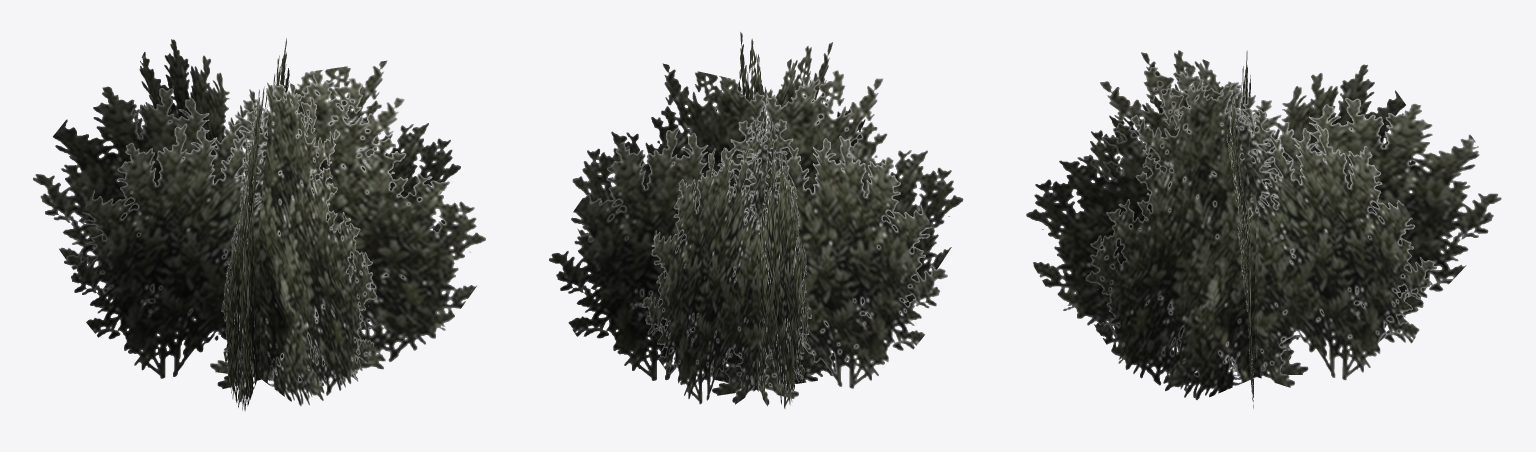
Rendered from SM_Generic_Plant_05.fbx.
3 renders of one model, left to right at view 1: azimuth 30°, elevation 25°; view 2: azimuth 150°, elevation 25°; view 3: azimuth 270°, elevation 25°, orthographic. The views are drawn at different scales.
Visible parts, largest first — view 1: SM_Generic_Plant_05_LOD0; view 2: SM_Generic_Plant_05_LOD0; view 3: SM_Generic_Plant_05_LOD0.
Boxes of the visible parts, <box> form: SM_Generic_Plant_05_LOD0: <box>33,38,485,411</box>; SM_Generic_Plant_05_LOD0: <box>549,32,963,409</box>; SM_Generic_Plant_05_LOD0: <box>1026,50,1501,408</box>.
Size of what is drawn, in the model's own units: 0.667 by 0.4935 by 0.7157.
